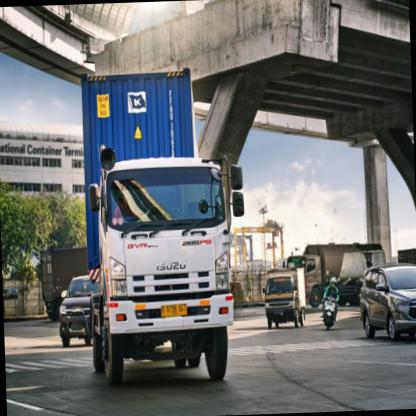truck: (95, 155, 240, 393)
